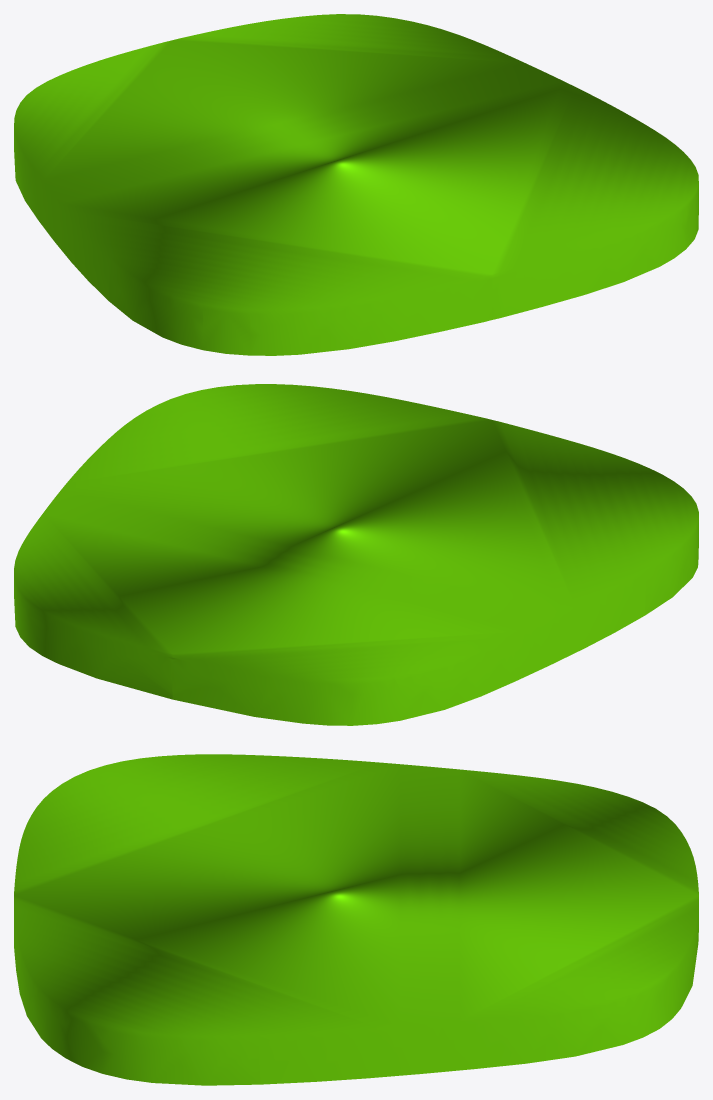
Rendered from chair_027_04.obj.
3 views of the same model, one above another, from view 1: azimuth 30°, elevation 25°; view 2: azimuth 150°, elevation 25°; view 3: azimuth 270°, elevation 25° (orthographic). The views are drawn at different scales.
Size of the model in its own units: 395 by 32 by 405.
